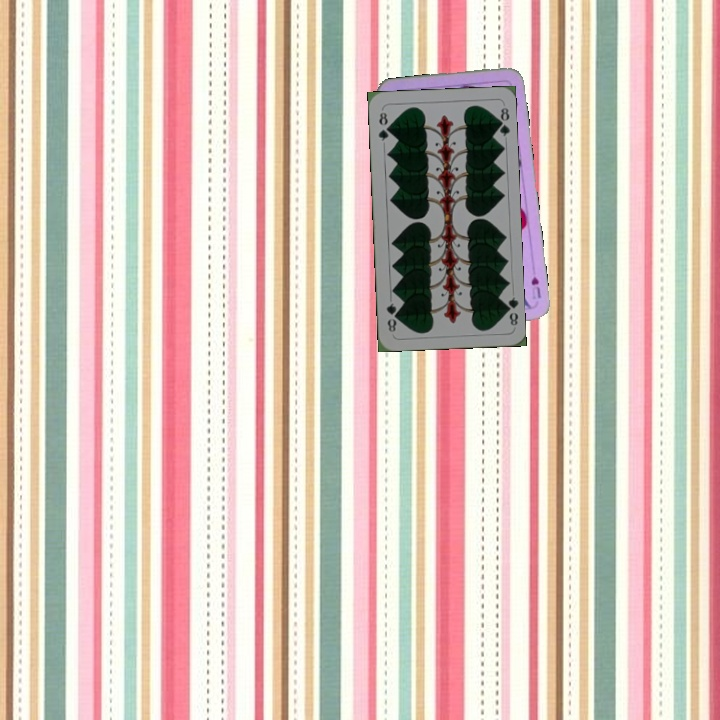G8: (500, 293, 521, 328), (375, 108, 392, 143)
HU: (527, 273, 544, 302)
